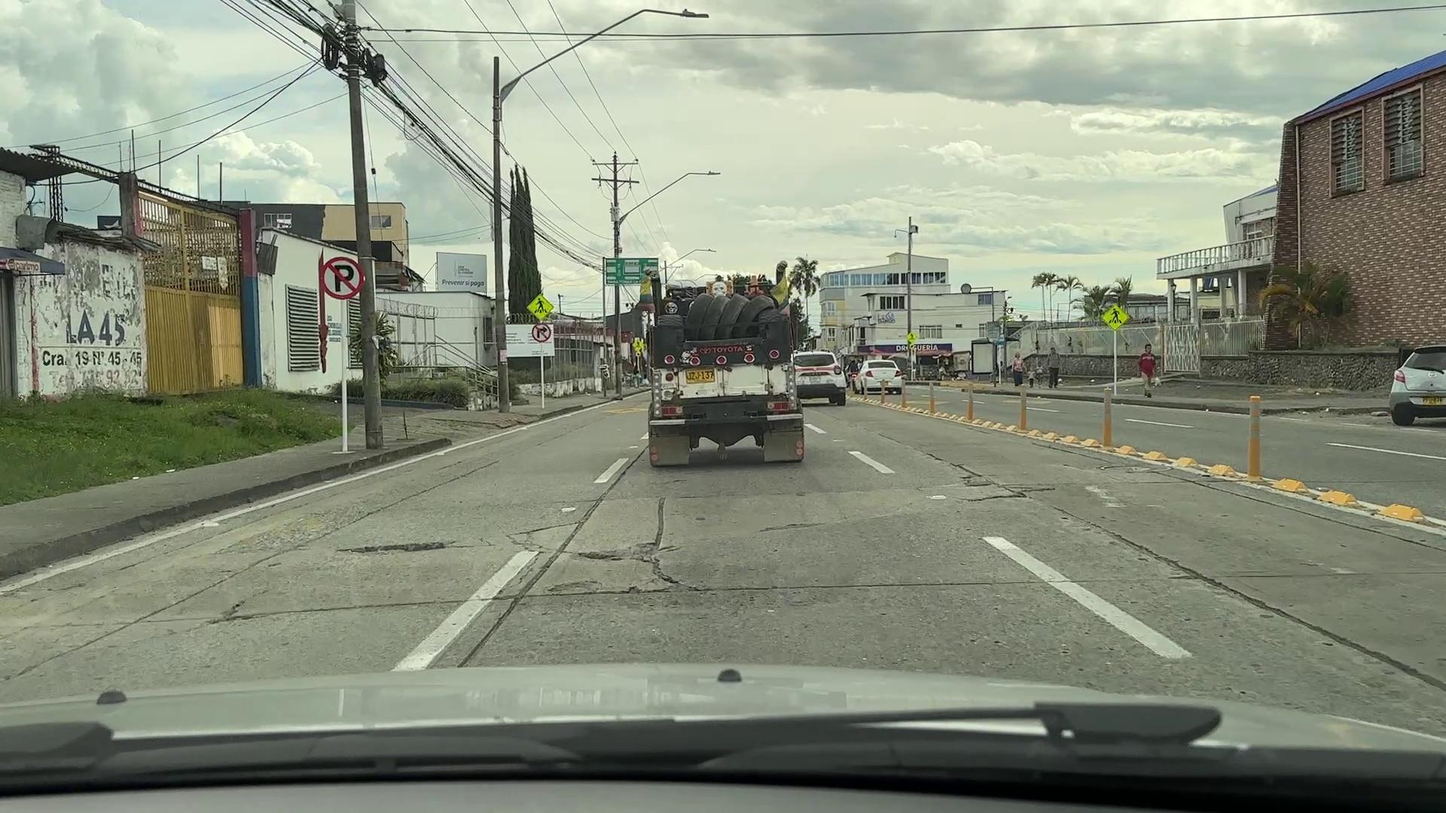bache: (958, 484, 1056, 503), (569, 543, 658, 563), (344, 541, 445, 553), (959, 475, 999, 487)
grieta: (1090, 524, 1445, 692), (496, 520, 580, 596), (188, 597, 272, 631), (525, 586, 673, 597), (927, 453, 983, 477), (652, 560, 682, 585), (655, 498, 666, 547)
registro: (1104, 466, 1152, 471)
